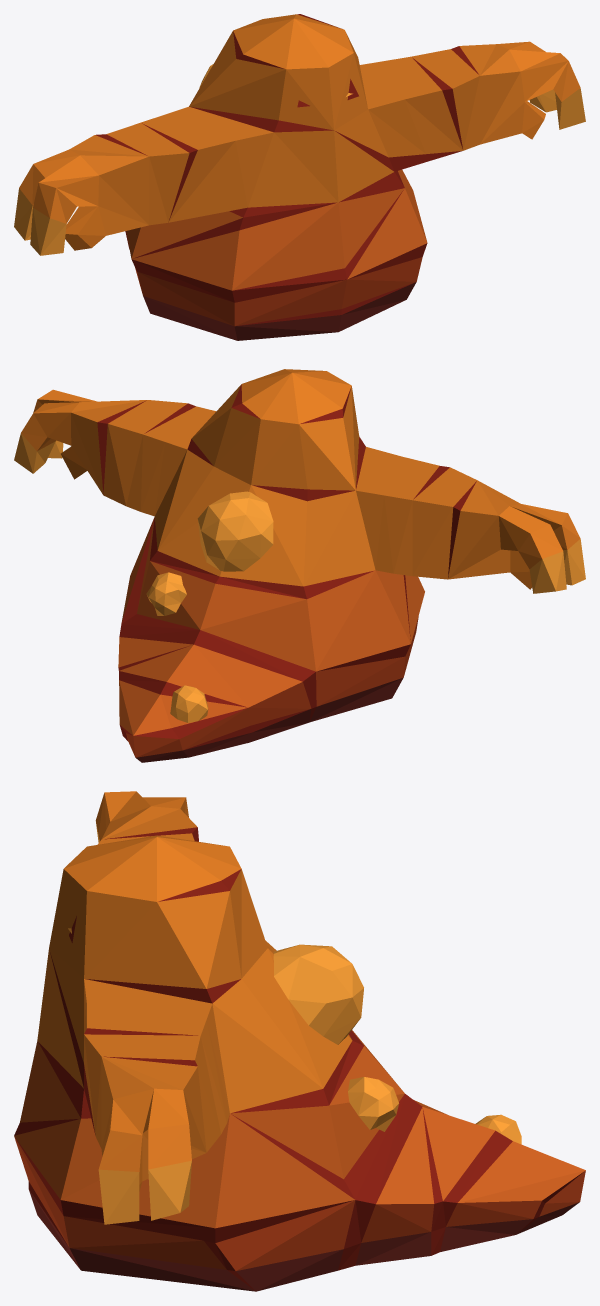
The model's file is tz_kek_half.glb.
3 views of the same model, one above another, from view 1: azimuth 30°, elevation 25°; view 2: azimuth 150°, elevation 25°; view 3: azimuth 270°, elevation 25° (orthographic). The views are drawn at different scales.
Size of the model in its own units: 291 by 143 by 196.
Materials: 1 (1 with a texture image).
